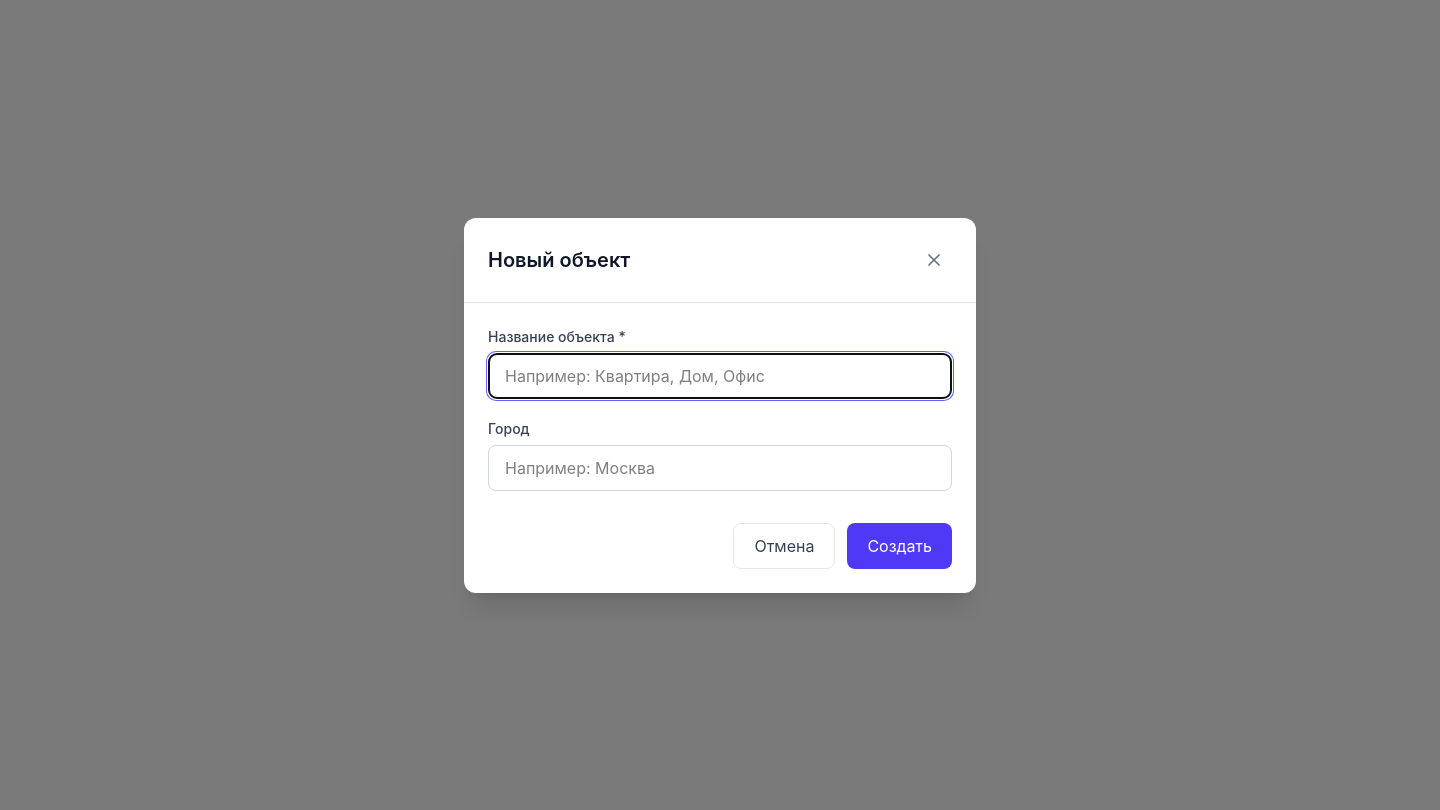
CreateObjectModal › keyboard support › should clear error when name input changes
// Trigger error
Click the button "Создать" at coordinates (900, 546), box [847,522,952,568]
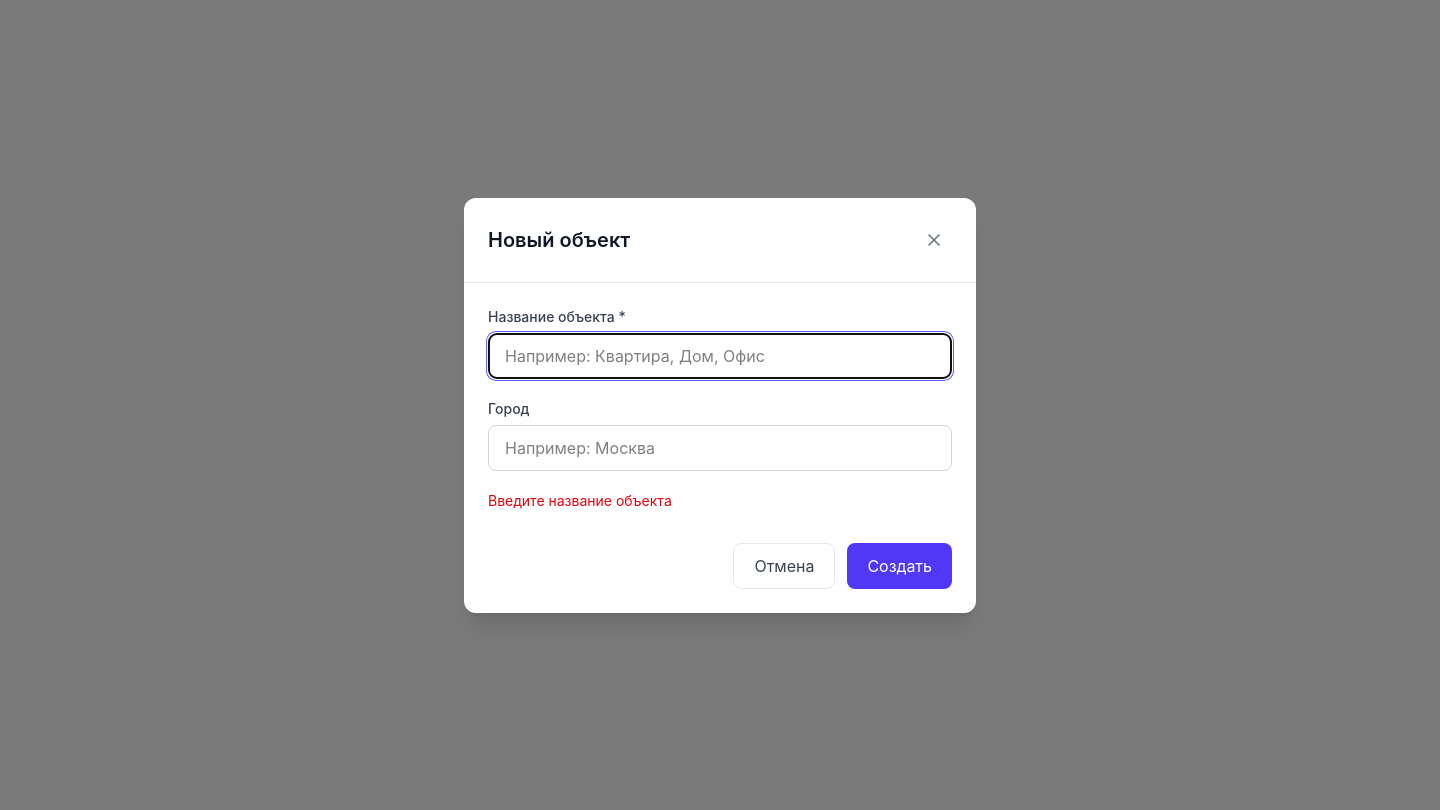
Check: the text "Введите название объекта" is shown, box [488,492,672,508]
// Clear error by typing
Type "Тест" into the field with placeholder "Например: Квартира, Дом, Офис" at coordinates (720, 356), box [488,332,952,378]
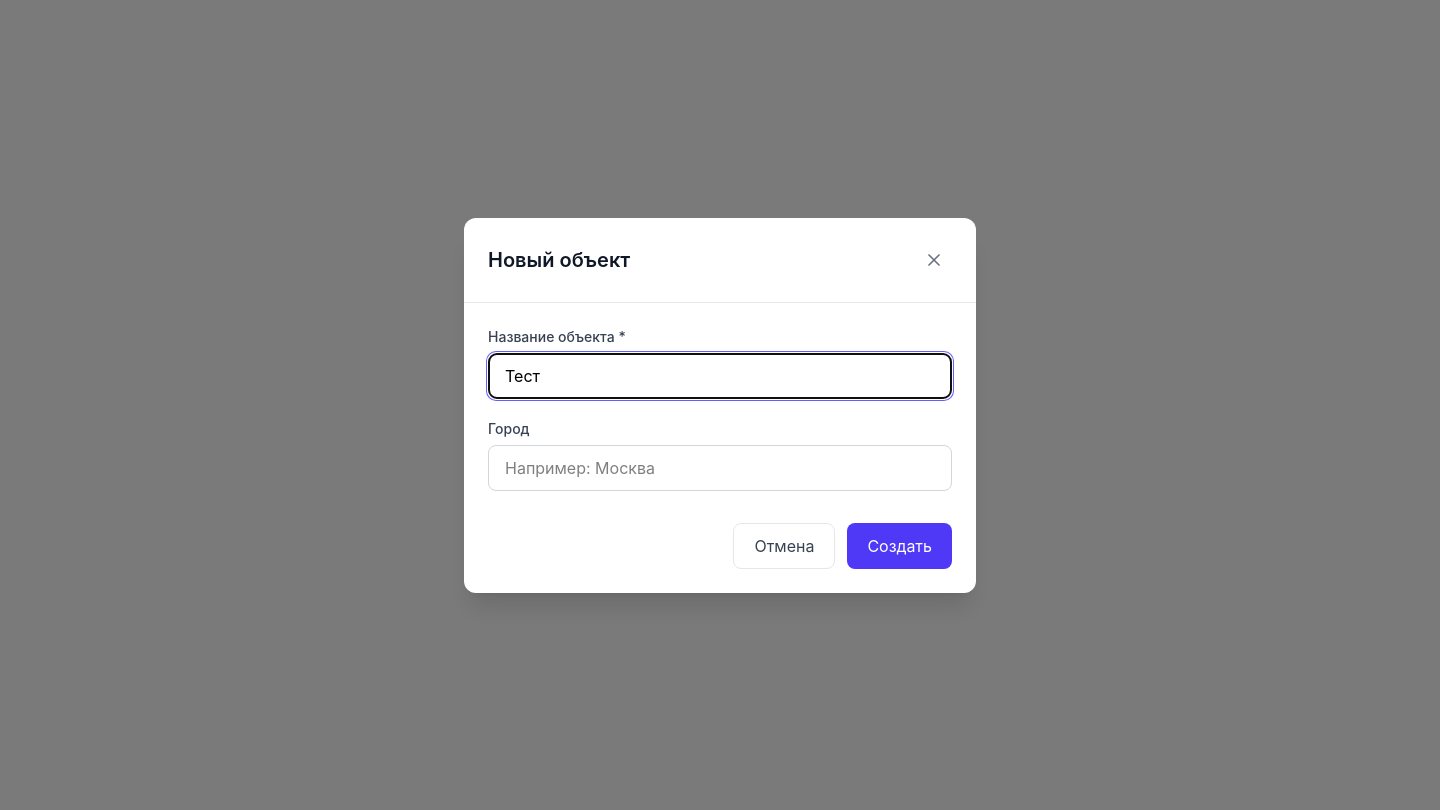
Check: the text "Введите название объекта" is gone
